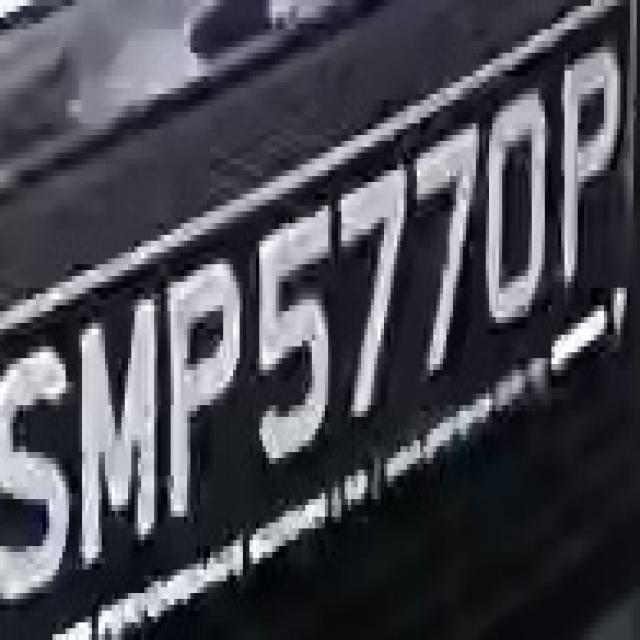0: (486, 94, 558, 346)
5: (246, 182, 351, 470)
7: (315, 147, 414, 440), (403, 129, 482, 388)
M: (72, 300, 164, 570)
P: (545, 47, 633, 311), (164, 247, 243, 540)
S: (3, 335, 69, 634)
